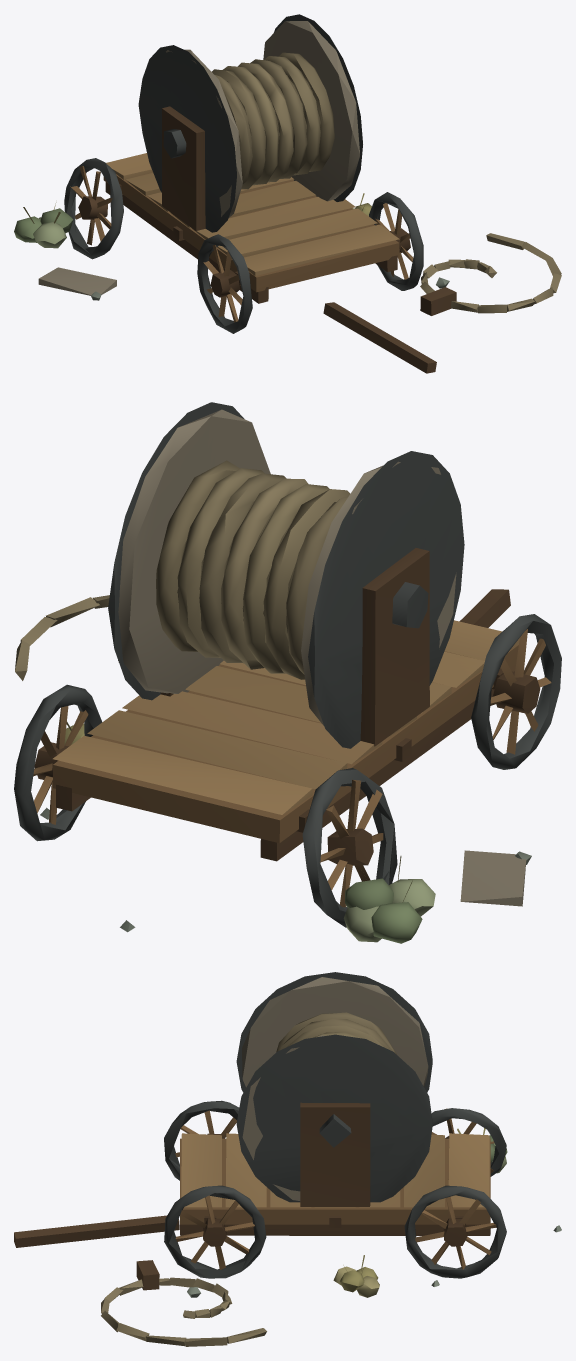
Rendered from rope_drum_wagon_b_lod2.glb.
The picture shows the model from 3 angles, top to bottom: view 1: azimuth 30°, elevation 25°; view 2: azimuth 150°, elevation 25°; view 3: azimuth 270°, elevation 25°; orthographic projection. The views are drawn at different scales.
Visible parts, largest first — view 1: Surface.001; view 2: Surface.001; view 3: Surface.001.
Boxes of the visible parts, left/top/right/bottom form: Surface.001: left=14, top=14, right=561, bottom=373; Surface.001: left=14, top=402, right=561, bottom=943; Surface.001: left=14, top=972, right=561, bottom=1346.
Bounding box in the file's own units: 10.73 × 5.93 × 12.29.
